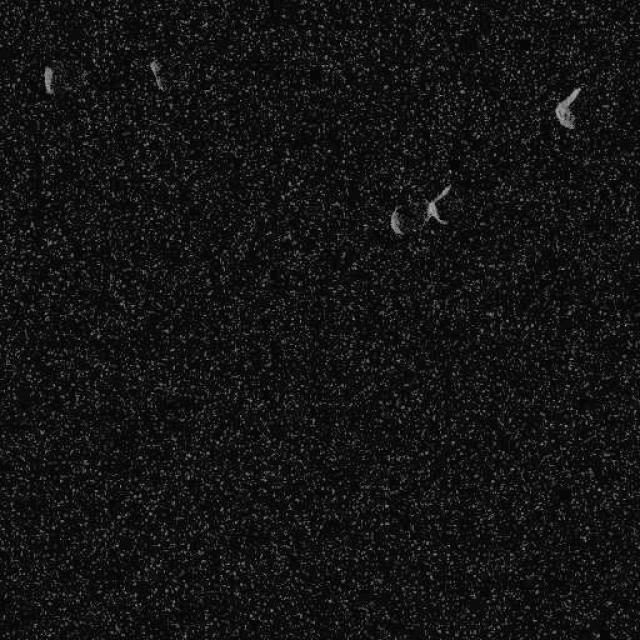D2: (388, 182, 452, 236), (554, 85, 581, 130), (147, 58, 165, 92), (41, 65, 54, 95)
